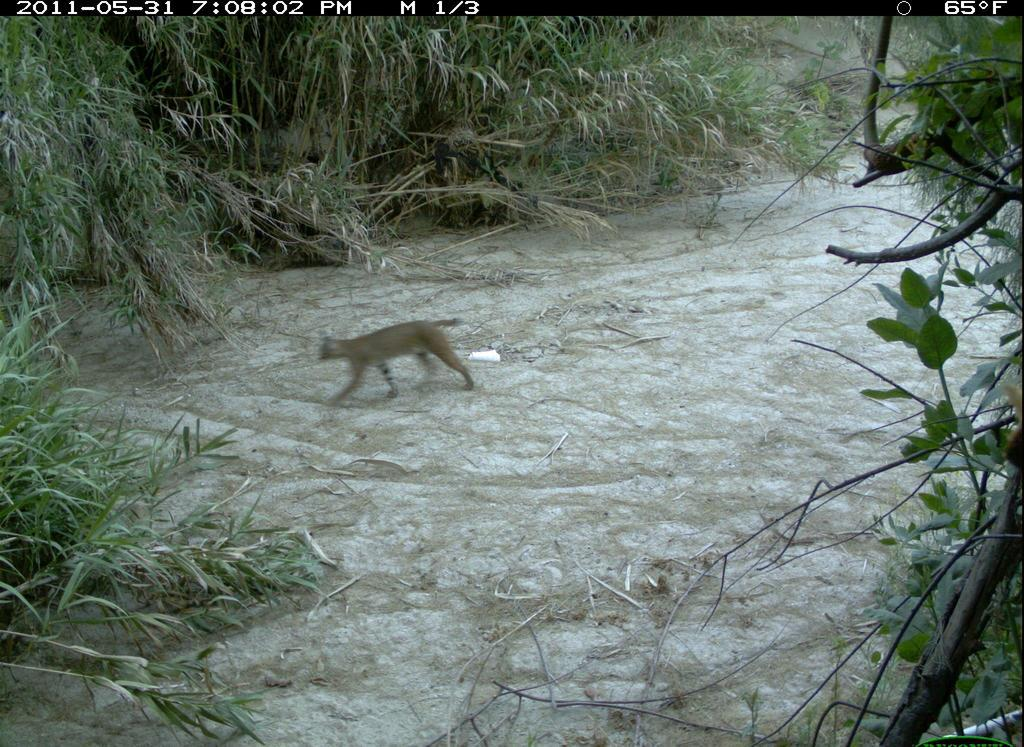bobcat: (310, 308, 500, 413)
